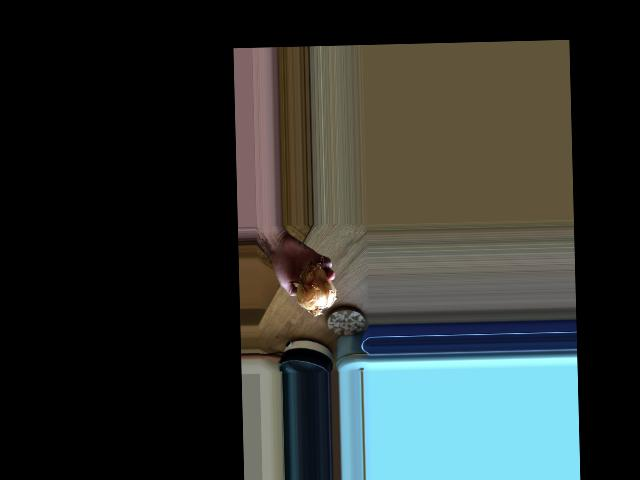onion: (295, 257, 338, 314)
